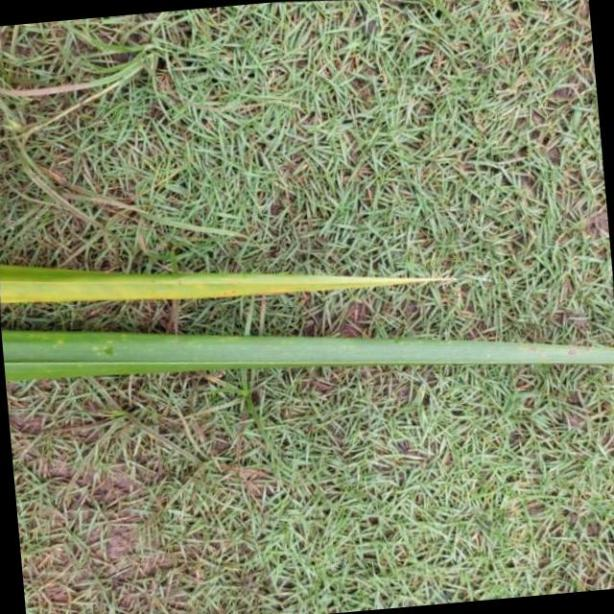nitrogen: (7, 326, 614, 386), (0, 254, 512, 307)
